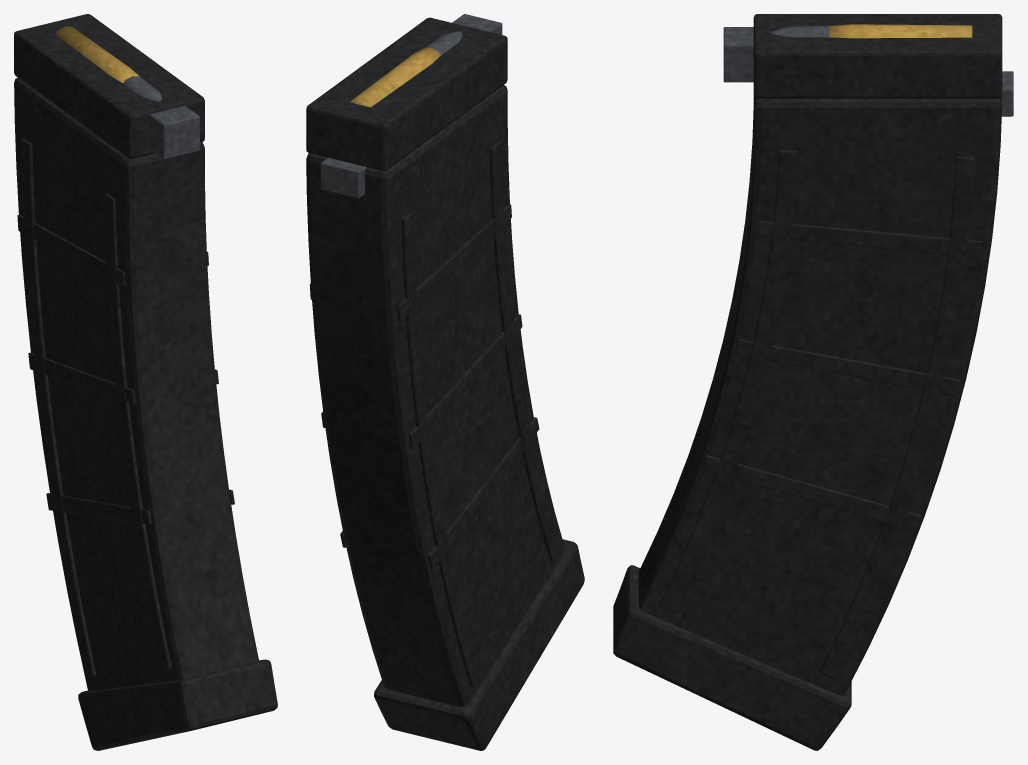
Rendered from mag_ak12.glb.
3 renders of one model, left to right at view 1: azimuth 30°, elevation 25°; view 2: azimuth 150°, elevation 25°; view 3: azimuth 270°, elevation 25°, orthographic. The views are drawn at different scales.
Parts seen in each view (by area): view 1: mag_ak12; view 2: mag_ak12; view 3: mag_ak12.
Part boxes in pixels (<box>): mag_ak12: <box>14,14,277,750</box>; mag_ak12: <box>306,14,584,750</box>; mag_ak12: <box>613,14,1013,750</box>.
Bounding box in the file's own units: 0.03 × 0.2059 × 0.1063.
3 materials, 3 textured.
